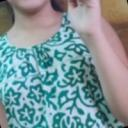hand: (66, 0, 104, 37)
